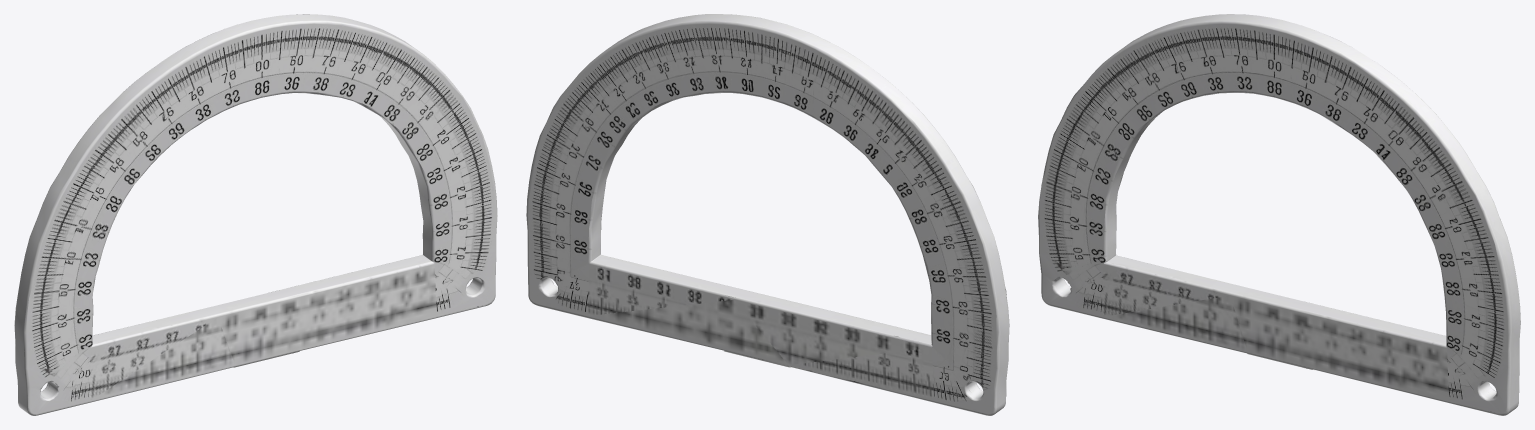
The model's file is protractor.glb.
3 renders of one model, left to right at view 1: azimuth 30°, elevation 25°; view 2: azimuth 150°, elevation 25°; view 3: azimuth 330°, elevation 25°, orthographic.
Size of the model in its own units: 0.9546 by 0.6435 by 0.0401.
1 material, 1 textured.
